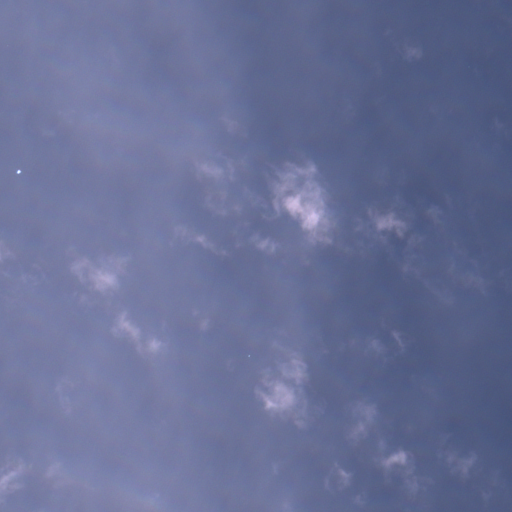Iceberg: (16, 169, 21, 173), (248, 355, 249, 356)
